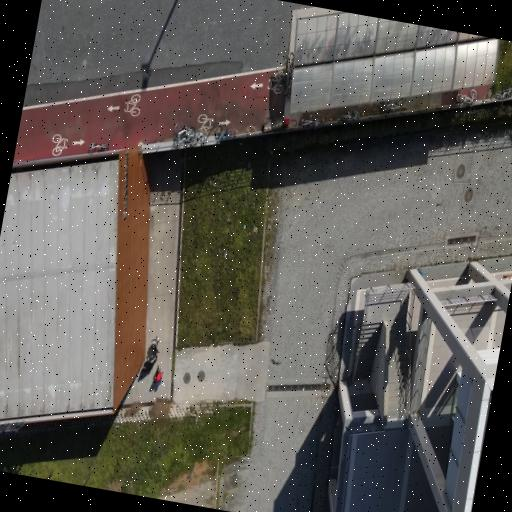person: (153, 364, 162, 386)
